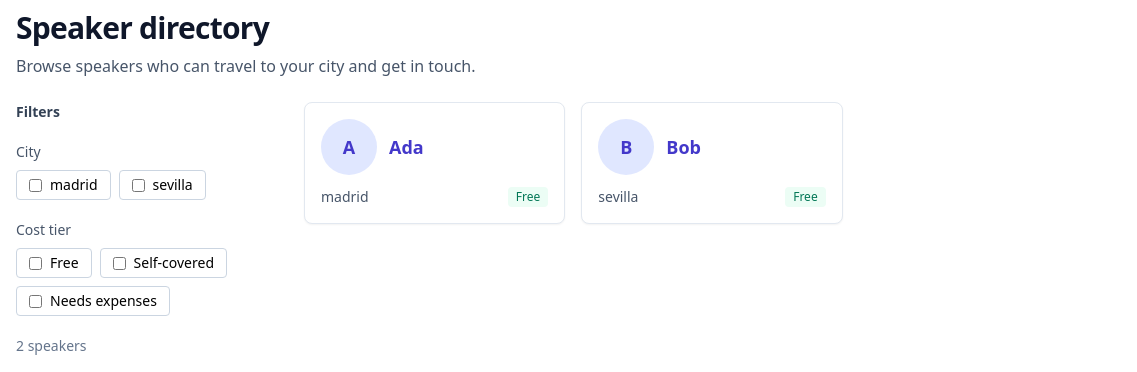
HomePage › shows a no-match message when filters exclude everyone
This screenshot has width=1137, height=372.
# Filtering by a tier no speaker offers empties the results.
Click the checkbox labelled "Needs expenses" at [36, 301], box [29, 294, 42, 308]
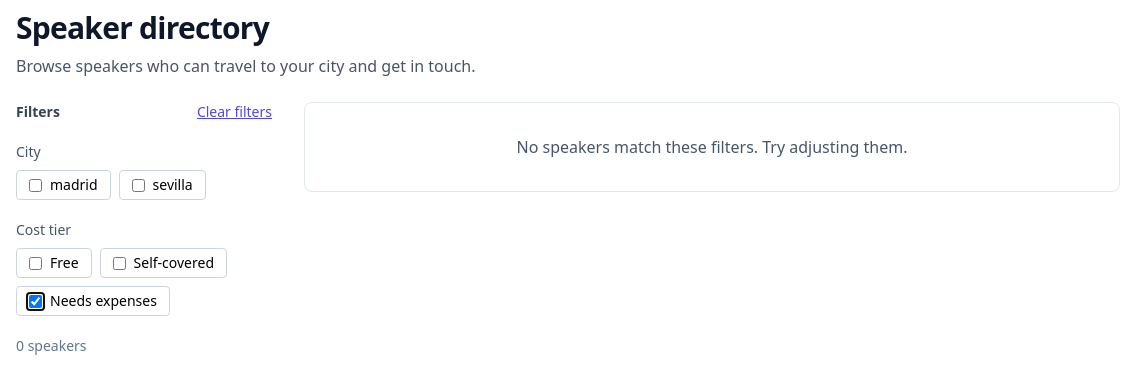
Result: the text "No speakers match these filters. Try adjusting them." is shown at [304, 102, 1120, 192]
